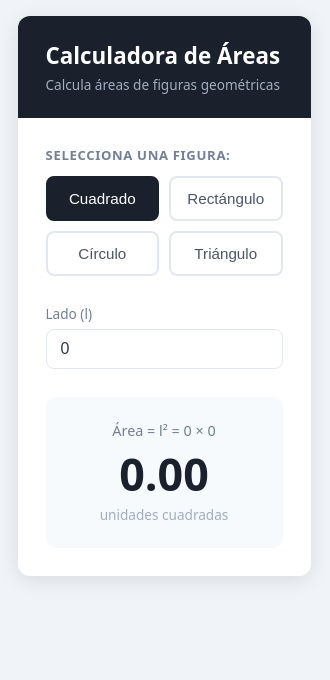
Scenario: Calculadora de Áreas › debe calcular correctamente el área del Rectángulo
Click the button "Rectángulo". click: (226, 198)
box: [169, 176, 282, 221]
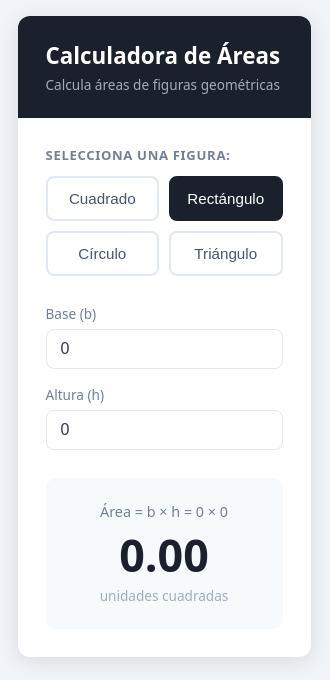
Type "4" into the number field below "Base (b)". click: (164, 349)
box: [46, 329, 282, 369]
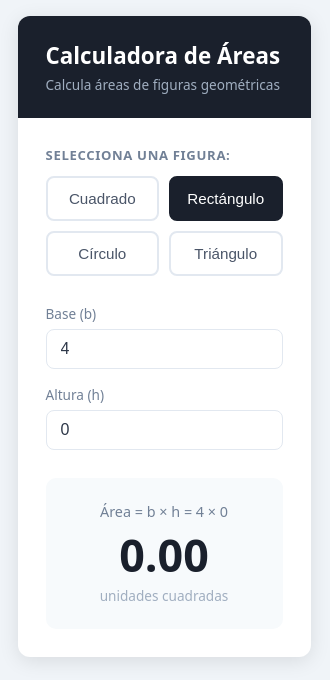
Type "6" into the number field below "Altura (h)". click: (164, 430)
box: [46, 410, 282, 450]
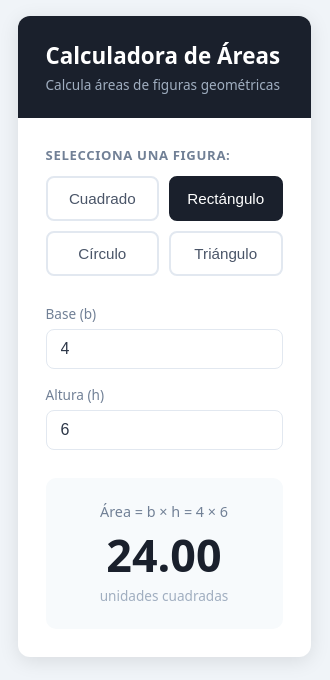
Expected: the text with class "area-valor" reads "24.00", [106, 524, 222, 585]
